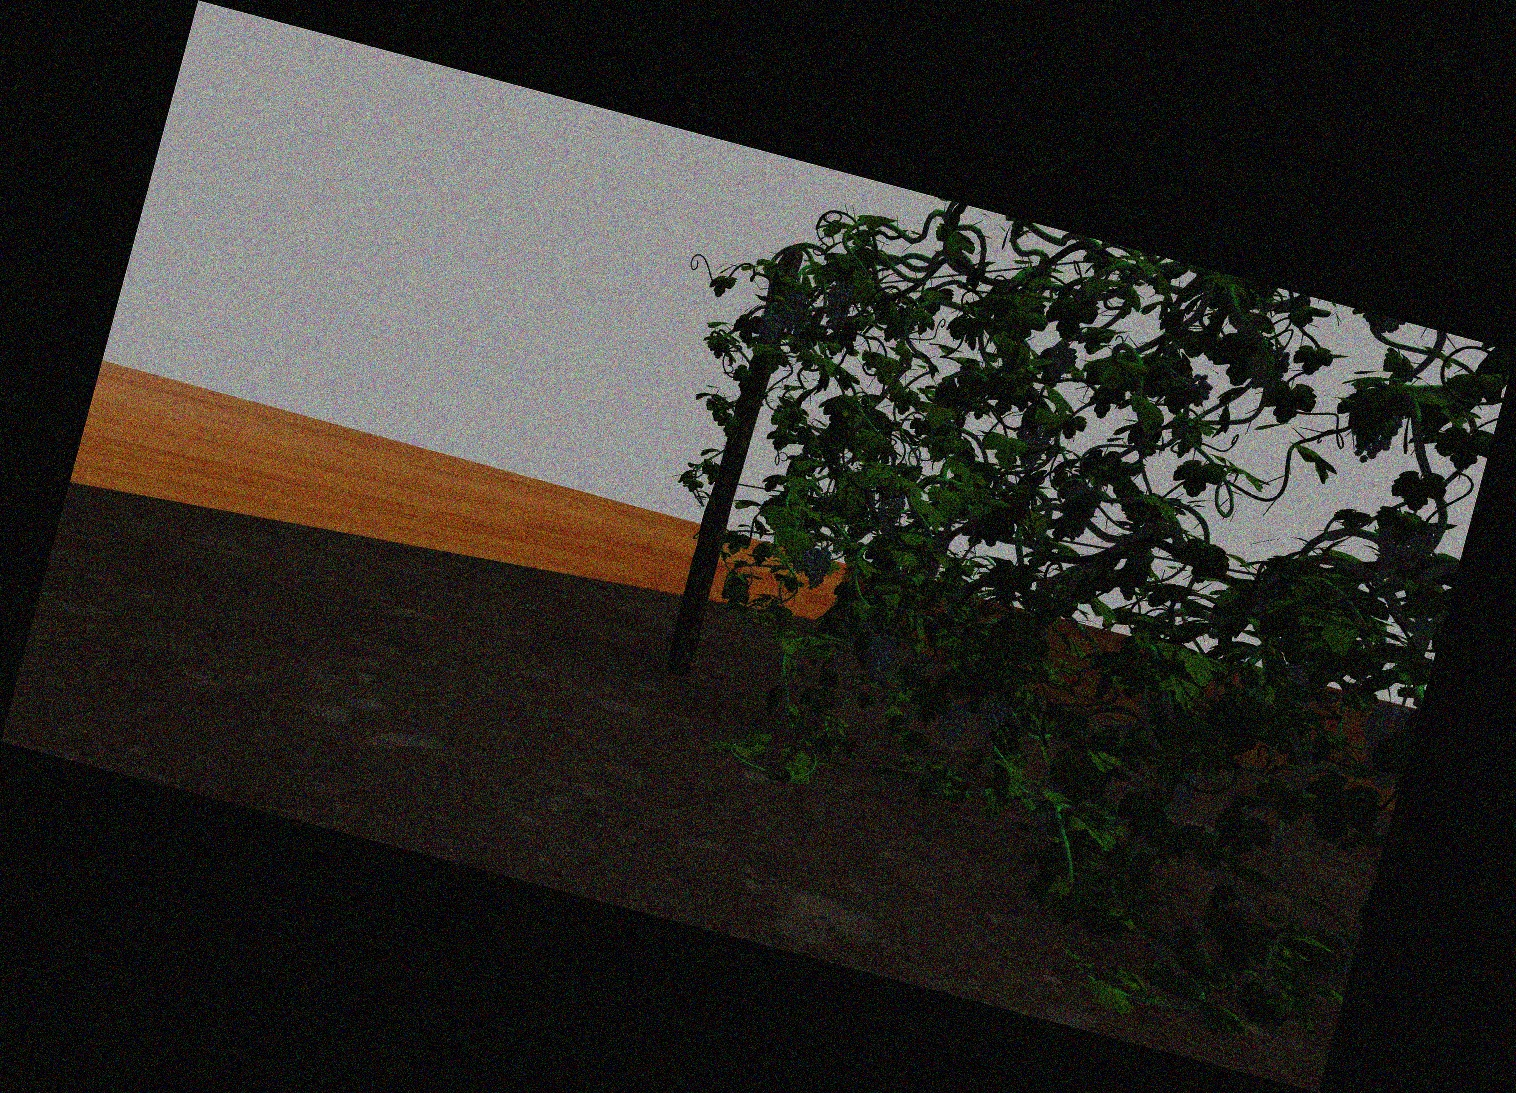grape: (1358, 704, 1404, 787), (1375, 516, 1432, 582), (1246, 345, 1288, 391), (1015, 418, 1049, 472), (1155, 769, 1198, 812), (1032, 779, 1063, 834), (864, 633, 895, 686), (935, 699, 968, 747), (799, 546, 832, 591), (825, 281, 855, 329), (1183, 369, 1214, 409), (1045, 341, 1077, 378), (978, 695, 1006, 735), (780, 287, 806, 329), (876, 489, 903, 529), (756, 309, 780, 349)
